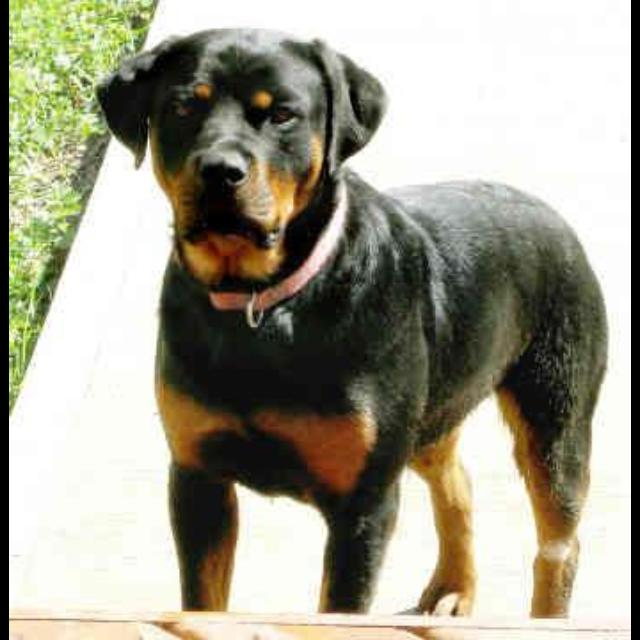rottweiler: (96, 27, 611, 620)
